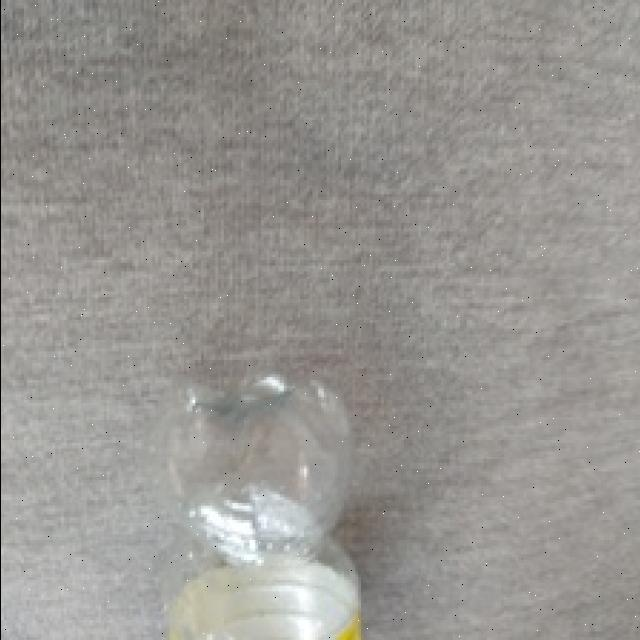plastic: (170, 374, 373, 640)
